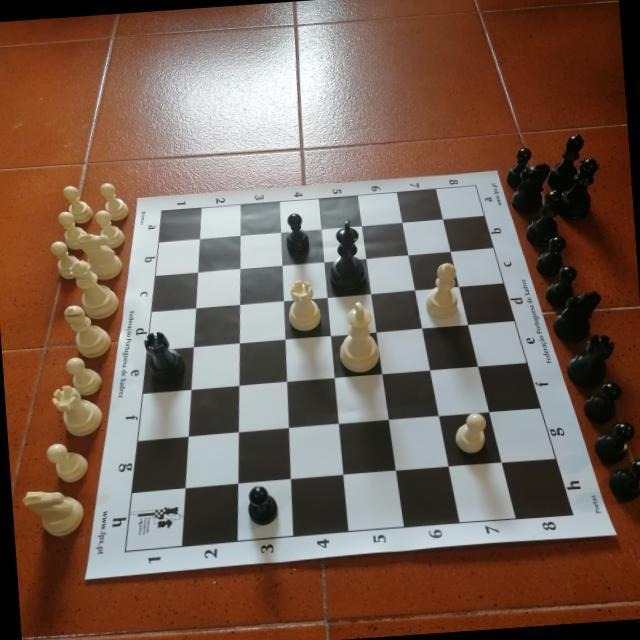black-bishop: (544, 131, 588, 194), (522, 188, 566, 248)
black-king: (325, 216, 367, 291)
black-knight: (548, 288, 605, 344), (507, 161, 553, 215)
black-pawn: (590, 418, 638, 466), (581, 379, 623, 425), (604, 455, 640, 504), (542, 264, 580, 308), (532, 234, 568, 278), (245, 483, 279, 527), (502, 146, 534, 190), (283, 210, 311, 254)
black-queen: (551, 153, 604, 222)
black-rook: (563, 330, 619, 389), (144, 329, 188, 386)
white-bishop: (63, 300, 113, 360), (421, 260, 459, 319)
white-king: (334, 299, 381, 375)
white-knight: (21, 487, 87, 541), (76, 230, 124, 282)
white-pawn: (45, 440, 91, 484), (64, 354, 104, 398), (453, 412, 489, 456), (48, 239, 83, 281), (55, 208, 88, 251), (93, 207, 126, 249), (62, 183, 94, 225), (98, 180, 129, 222)
white-queen: (68, 255, 120, 321)
white-rook: (49, 381, 103, 438), (285, 278, 323, 334)
